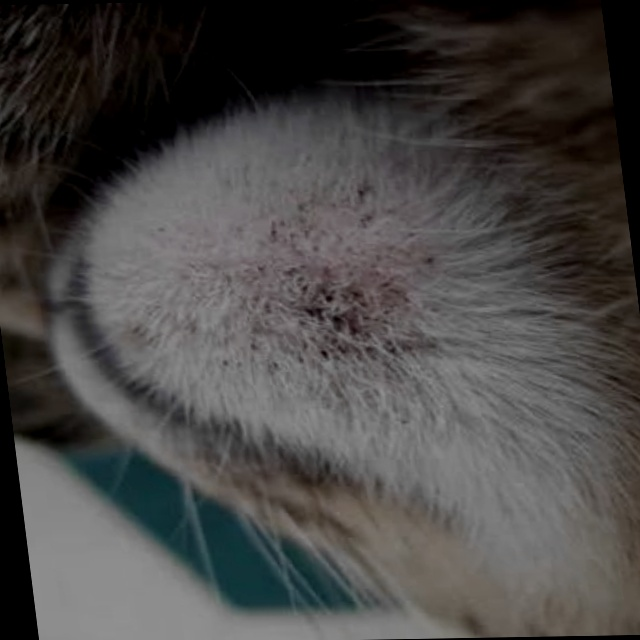acne: (193, 182, 468, 386)
